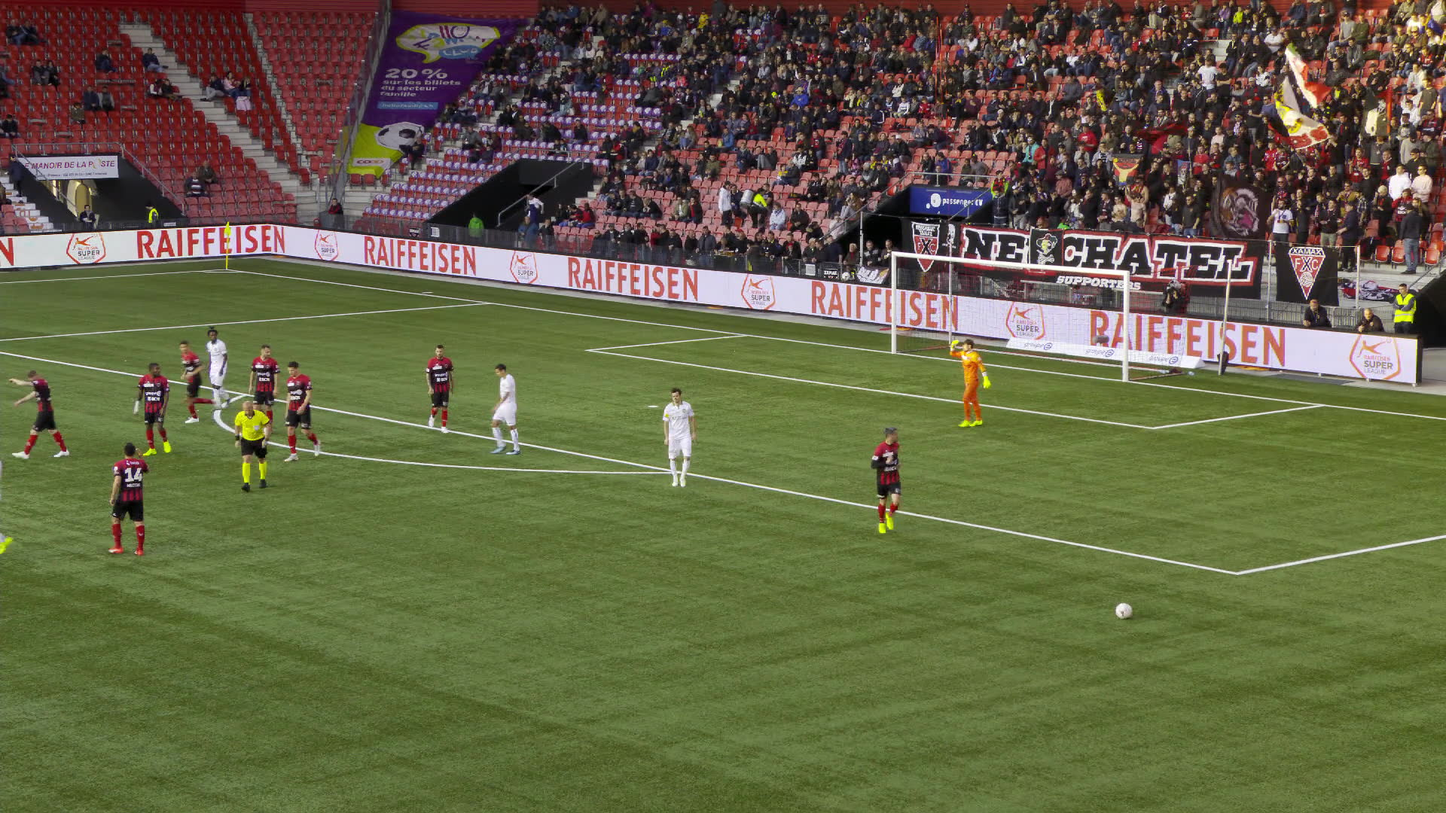ball: (1115, 602, 1131, 617)
player: (8, 369, 69, 459), (107, 442, 149, 556), (283, 361, 320, 461), (949, 338, 991, 426), (133, 362, 171, 455), (662, 388, 696, 488), (870, 426, 901, 534), (178, 340, 218, 422), (489, 362, 522, 455), (249, 343, 280, 434), (426, 344, 455, 433), (205, 324, 230, 407), (0, 457, 14, 554)
referee: (234, 400, 270, 492)
